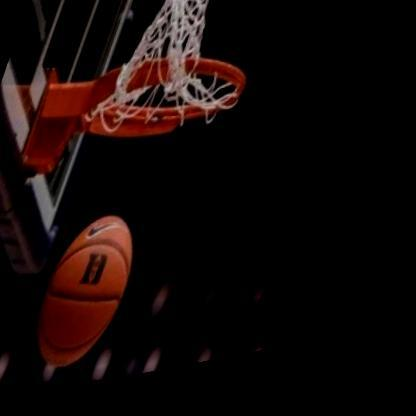basketball: (27, 200, 167, 389)
